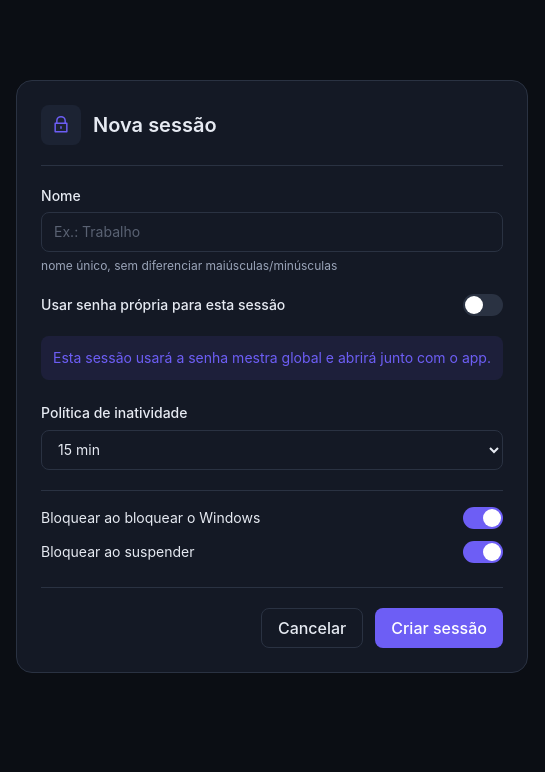
Test case: CreateSession › esconde os campos de senha própria até ativar o toggle
Click the switch with class "own-password-toggle".
click(483, 304)  # box x1=463 y1=294 x2=503 y2=316
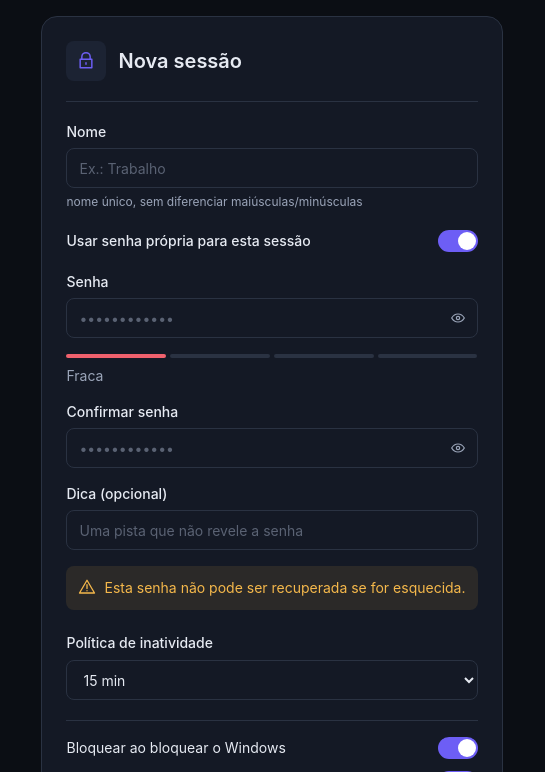
Now the element that starts with "Senha" shows "Confirmar senha", box x1=66 y1=403 x2=178 y2=420
